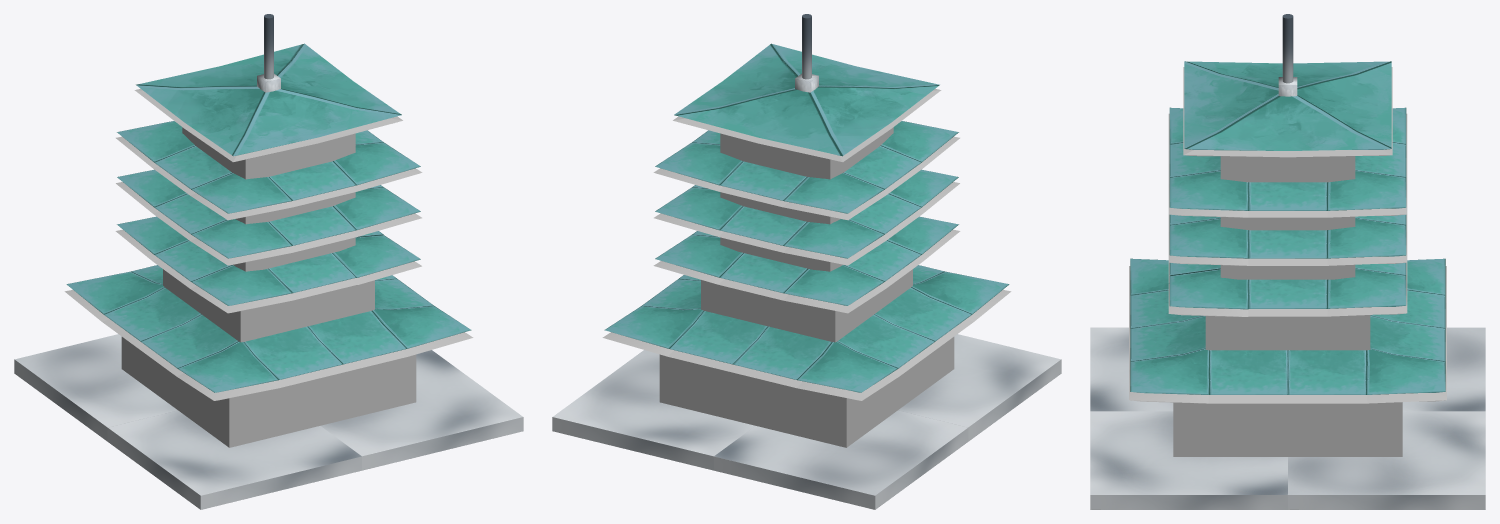
File: pagoda (light).fbx
3 renders of one model, left to right at view 1: azimuth 30°, elevation 25°; view 2: azimuth 150°, elevation 25°; view 3: azimuth 270°, elevation 25°, orthographic. The views are drawn at different scales.
Visible parts, largest first — view 1: roof variant 145; view 2: roof variant 145; view 3: roof variant 145.
Part boxes in pixels (bbox=[...]): roof variant 145: bbox=[14, 14, 523, 509]; roof variant 145: bbox=[552, 14, 1061, 509]; roof variant 145: bbox=[1090, 14, 1485, 509].
Size of the model in its own units: 78.74 by 90.07 by 78.74.
